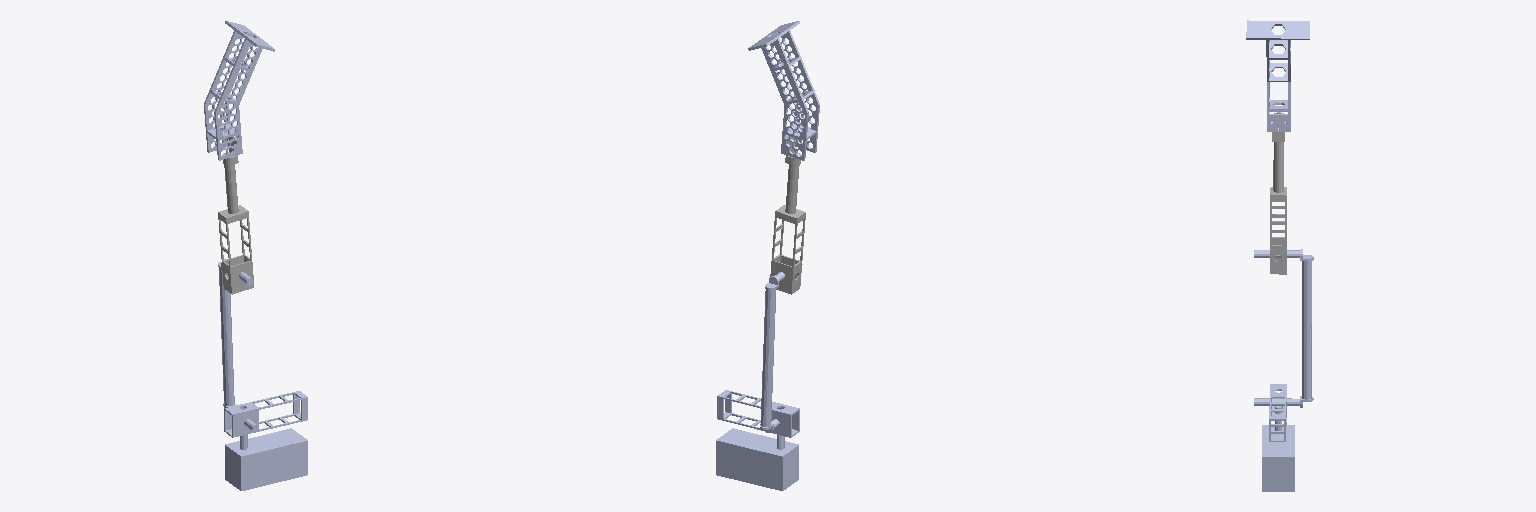
The robot description file, URDF, robot "Beo_Arm":
<?xml version="1.0" encoding="utf-8"?>
<!-- This URDF was automatically created by SolidWorks to URDF Exporter! Originally created by [author] ([email redacted]) 
     Commit Version: 1.6.0-1-g15f4949  Build Version: 1.6.7594.29634
     For more information, please see http://wiki.ros.org/sw_urdf_exporter -->
<robot
  name="Beo_Arm">
  <link
    name="link_1">
    <inertial>
      <origin
        xyz="0.0385731163984194 6.17303749939274E-18 0.0290614049862596"
        rpy="0 0 0" />
      <mass
        value="0.323605809581169" />
      <inertia
        ixx="0.000161147613159255"
        ixy="8.01544492901064E-22"
        ixz="8.44321479741365E-06"
        iyy="0.000450631135476571"
        iyz="7.13421240655373E-21"
        izz="0.000418295360654488" />
    </inertial>
    <visual>
      <origin
        xyz="0 0 0"
        rpy="0 0 0" />
      <geometry>
        <mesh
          filename="package://Beo_Arm/meshes/link_1.STL" />
      </geometry>
      <material
        name="">
        <color
          rgba="0.792156862745098 0.819607843137255 0.933333333333333 1" />
      </material>
    </visual>
    <collision>
      <origin
        xyz="0 0 0"
        rpy="0 0 0" />
      <geometry>
        <mesh
          filename="package://Beo_Arm/meshes/link_1.STL" />
      </geometry>
    </collision>
  </link>
  <link
    name="link_2">
    <inertial>
      <origin
        xyz="0.0227815027756188 -1.98408997564847E-17 0.019"
        rpy="0 0 0" />
      <mass
        value="0.0178646986447077" />
      <inertia
        ixx="5.52910048182247E-06"
        ixy="7.27918939046664E-21"
        ixz="-4.26995705611919E-21"
        iyy="3.44196286692544E-05"
        iyz="1.00447299859515E-21"
        izz="3.24160176753154E-05" />
    </inertial>
    <visual>
      <origin
        xyz="0 0 0"
        rpy="0 0 0" />
      <geometry>
        <mesh
          filename="package://Beo_Arm/meshes/link_2.STL" />
      </geometry>
      <material
        name="">
        <color
          rgba="0.792156862745098 0.819607843137255 0.933333333333333 1" />
      </material>
    </visual>
    <collision>
      <origin
        xyz="0 0 0"
        rpy="0 0 0" />
      <geometry>
        <mesh
          filename="package://Beo_Arm/meshes/link_2.STL" />
      </geometry>
    </collision>
  </link>
  <joint
    name="joint_1"
    type="continuous">
    <origin
      xyz="0 0 0.08431"
      rpy="0 0 -0.0180602773891119" />
    <parent
      link="link_1" />
    <child
      link="link_2" />
    <axis
      xyz="0 0 1" />
  </joint>
  <link
    name="link_3">
    <inertial>
      <origin
        xyz="8.32667268468867E-17 0.0315164899121853 0.121"
        rpy="0 0 0" />
      <mass
        value="0.0649301185542533" />
      <inertia
        ixx="0.000507342791034516"
        ixy="-8.470329472543E-22"
        ixz="5.88334795617755E-21"
        iyy="0.000476962065829218"
        iyz="1.23775998139985E-19"
        izz="3.22586635547296E-05" />
    </inertial>
    <visual>
      <origin
        xyz="0 0 0"
        rpy="0 0 0" />
      <geometry>
        <mesh
          filename="package://Beo_Arm/meshes/link_3.STL" />
      </geometry>
      <material
        name="">
        <color
          rgba="0.792156862745098 0.819607843137255 0.933333333333333 1" />
      </material>
    </visual>
    <collision>
      <origin
        xyz="0 0 0"
        rpy="0 0 0" />
      <geometry>
        <mesh
          filename="package://Beo_Arm/meshes/link_3.STL" />
      </geometry>
    </collision>
  </link>
  <joint
    name="joint_2"
    type="continuous">
    <origin
      xyz="0 0 0.019"
      rpy="0 -0.0391354579270017 0" />
    <parent
      link="link_2" />
    <child
      link="link_3" />
    <axis
      xyz="-0.134117389318996 0.990951536857201 0.00525142672125888" />
  </joint>
  <link
    name="link_4">
    <inertial>
      <origin
        xyz="0.000802784843333005 0.00224348866671527 0.101288784293066"
        rpy="0 0 0" />
      <mass
        value="0.0444466554551977" />
      <inertia
        ixx="6.90359436621288E-05"
        ixy="2.69280725123079E-07"
        ixz="-1.64388414376807E-06"
        iyy="7.11174844416945E-05"
        iyz="-4.55505444025833E-07"
        izz="6.99283315207976E-06" />
    </inertial>
    <visual>
      <origin
        xyz="0 0 0"
        rpy="0 0 0" />
      <geometry>
        <mesh
          filename="package://Beo_Arm/meshes/link_4.STL" />
      </geometry>
      <material
        name="">
        <color
          rgba="0.752941176470588 0.752941176470588 0.752941176470588 1" />
      </material>
    </visual>
    <collision>
      <origin
        xyz="0 0 0"
        rpy="0 0 0" />
      <geometry>
        <mesh
          filename="package://Beo_Arm/meshes/link_4.STL" />
      </geometry>
    </collision>
  </link>
  <joint
    name="joint_3"
    type="continuous">
    <origin
      xyz="8.56085375371338E-05 -0.00127084526654451 0.241996647959196"
      rpy="0.00525549848908786 -0.0392495208614394 0.134318392766936" />
    <parent
      link="link_3" />
    <child
      link="link_4" />
    <axis
      xyz="0 1 0" />
  </joint>
  <link
    name="hand">
    <inertial>
      <origin
        xyz="0.00360655675294224 0.00165305352719414 0.0886336164731698"
        rpy="0 0 0" />
      <mass
        value="0.0570006651942083" />
      <inertia
        ixx="0.000227773695653776"
        ixy="3.81164826264435E-21"
        ixz="-6.85870049069053E-05"
        iyy="0.000244454826346668"
        iyz="-3.1790205301638E-20"
        izz="5.61269459945458E-05" />
    </inertial>
    <visual>
      <origin
        xyz="0 0 0"
        rpy="0 0 0" />
      <geometry>
        <mesh
          filename="package://Beo_Arm/meshes/hand.STL" />
      </geometry>
      <material
        name="">
        <color
          rgba="0.792156862745098 0.819607843137255 0.933333333333333 1" />
      </material>
    </visual>
    <collision>
      <origin
        xyz="0 0 0"
        rpy="0 0 0" />
      <geometry>
        <mesh
          filename="package://Beo_Arm/meshes/hand.STL" />
      </geometry>
    </collision>
  </link>
  <joint
    name="joint_4"
    type="fixed">
    <origin
      xyz="0.0140000000000043 0 0.21558"
      rpy="-0.0104630114004552 -0.00141275247014232 -0.134206928841141" />
    <parent
      link="link_4" />
    <child
      link="hand" />
    <axis
      xyz="0 0 0" />
  </joint>
</robot>

--- Facts derived from the render (not from the file) ---
Views: 3 orthographic renders of the robot side by side, from view 1: azimuth 30°, elevation 25°; view 2: azimuth 150°, elevation 25°; view 3: azimuth 270°, elevation 25°.
Model Beo_Arm with 5 links and 4 joints (3 continuous, 1 fixed), rooted at link_1, posed every joint at zero.
Links seen in each view (by area): view 1: link_1, hand, link_4, link_2, link_3; view 2: link_1, hand, link_4, link_3, link_2; view 3: hand, link_1, link_3, link_4, link_2.
Link boxes in pixels (bbox=[...]): link_1: bbox=[225, 428, 307, 490]; hand: bbox=[204, 21, 274, 160]; link_4: bbox=[218, 136, 253, 294]; link_2: bbox=[224, 391, 307, 437]; link_3: bbox=[218, 259, 258, 432]; link_1: bbox=[716, 428, 798, 490]; hand: bbox=[748, 21, 819, 160]; link_4: bbox=[770, 136, 805, 294]; link_3: bbox=[760, 260, 802, 432]; link_2: bbox=[717, 390, 799, 437]; hand: bbox=[1246, 20, 1309, 131]; link_1: bbox=[1262, 406, 1294, 491]; link_3: bbox=[1254, 249, 1313, 407]; link_4: bbox=[1270, 112, 1286, 274]; link_2: bbox=[1269, 384, 1286, 441].
Bounding box of the posed robot: 0.1594 × 0.1013 × 0.7357 m (x, y, z).
Meshes: 5 distinct files referenced, 5 mesh visuals loaded (5 binary STL).